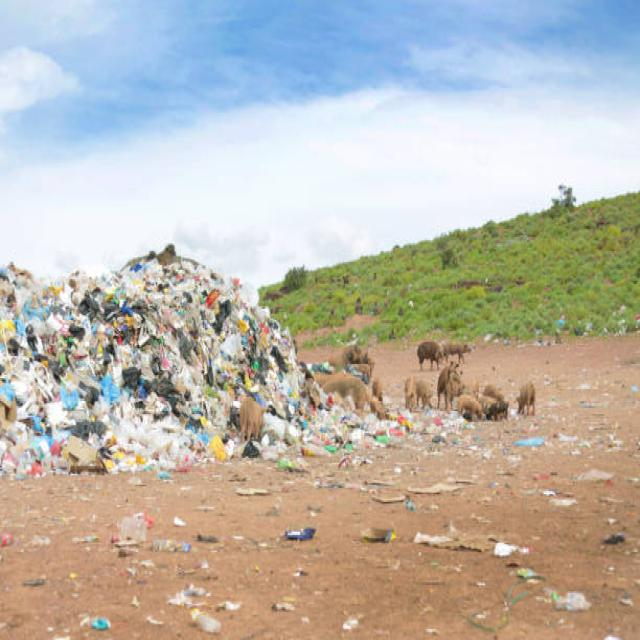trash: (112, 273, 282, 452)
